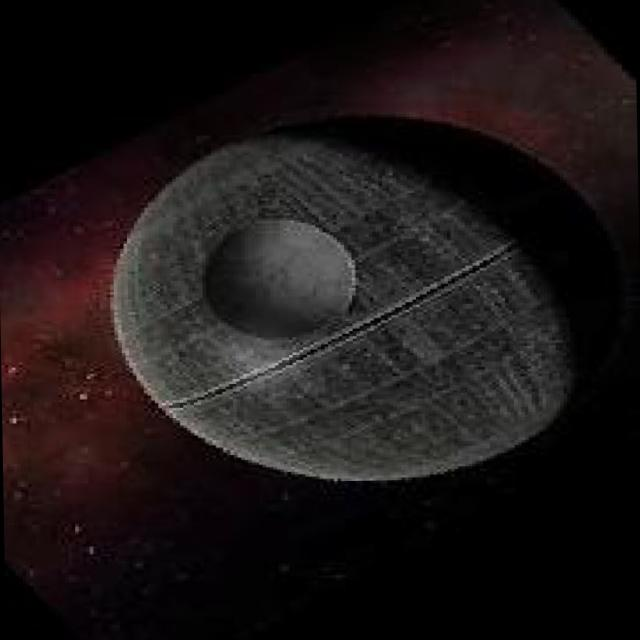Death Star: (100, 120, 586, 491)
